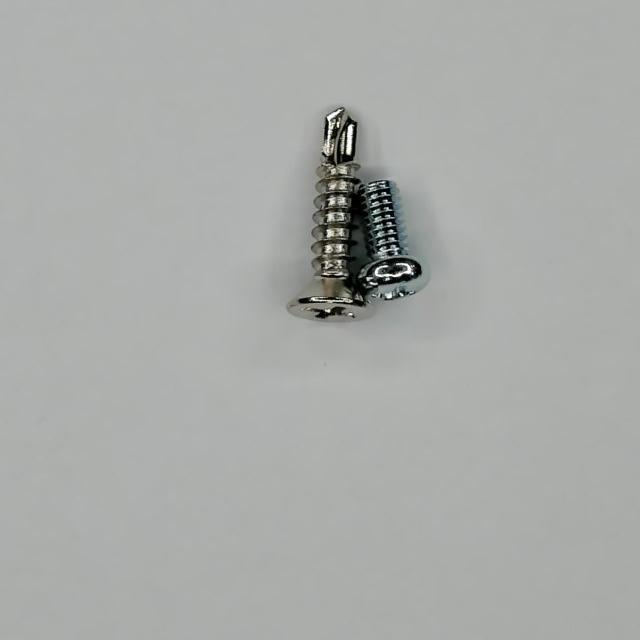Screw: (288, 107, 366, 320), (357, 179, 428, 302)
